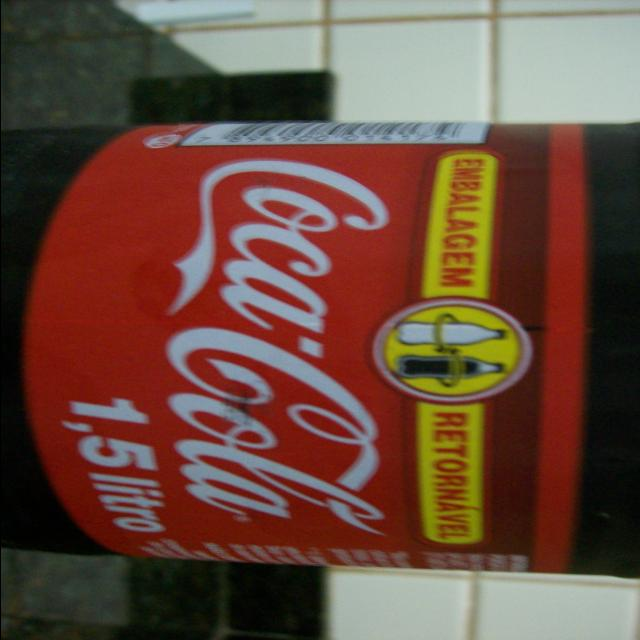code: (177, 120, 490, 153)
label: (28, 121, 582, 568)
